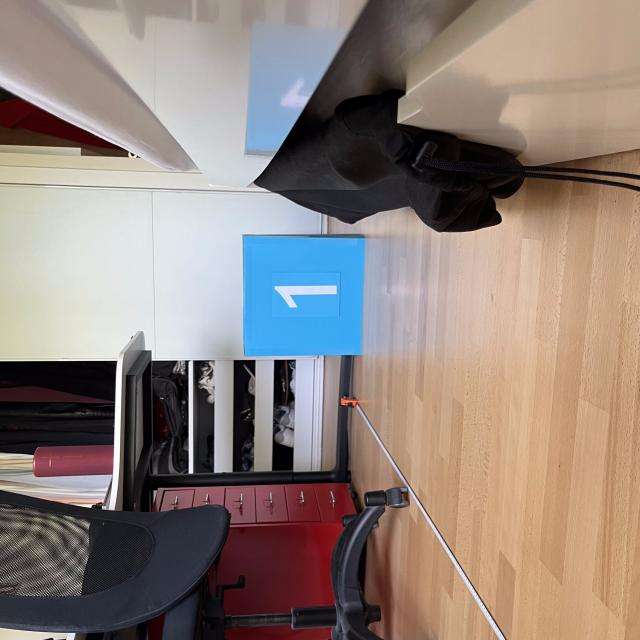box: (238, 229, 368, 358)
